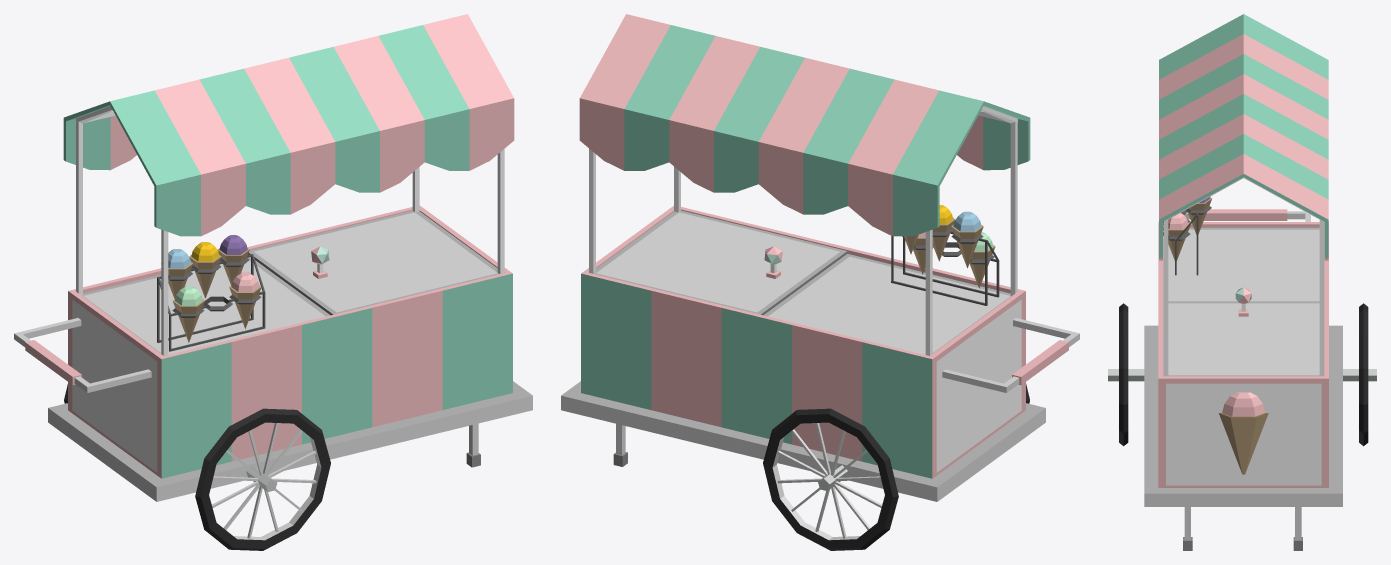
Rendered from IceCreamTruck_01.glb.
The picture shows the model from 3 angles, left to right: view 1: azimuth 30°, elevation 25°; view 2: azimuth 150°, elevation 25°; view 3: azimuth 270°, elevation 25°; orthographic projection. The views are drawn at different scales.
Visible parts, largest first — view 1: IceCreamTruck_01; view 2: IceCreamTruck_01; view 3: IceCreamTruck_01.
Boxes of the visible parts, <box> form: IceCreamTruck_01: <box>14,14,532,550</box>; IceCreamTruck_01: <box>561,14,1079,550</box>; IceCreamTruck_01: <box>1108,14,1376,550</box>.
Size of what is drawn, in the model's own units: 2.51 by 2.36 by 1.49.
1 material, 1 textured.
